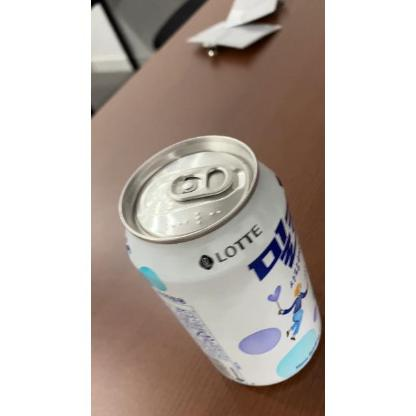Can: (116, 132, 324, 388)
